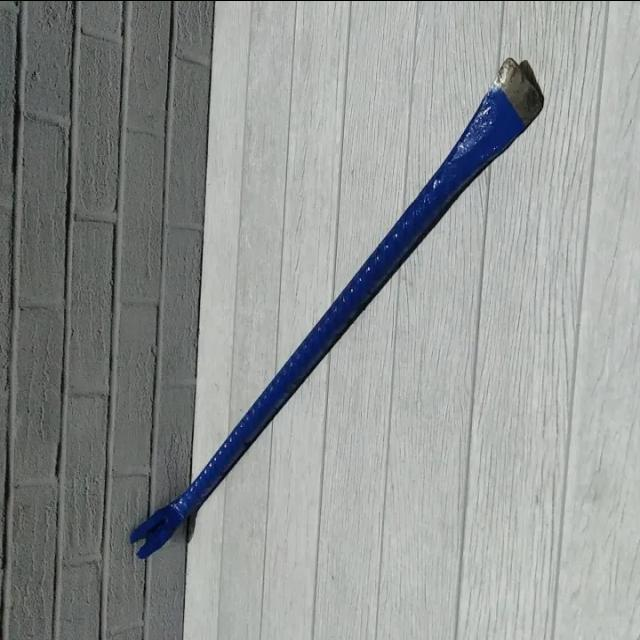Linggis: (127, 59, 555, 561)
